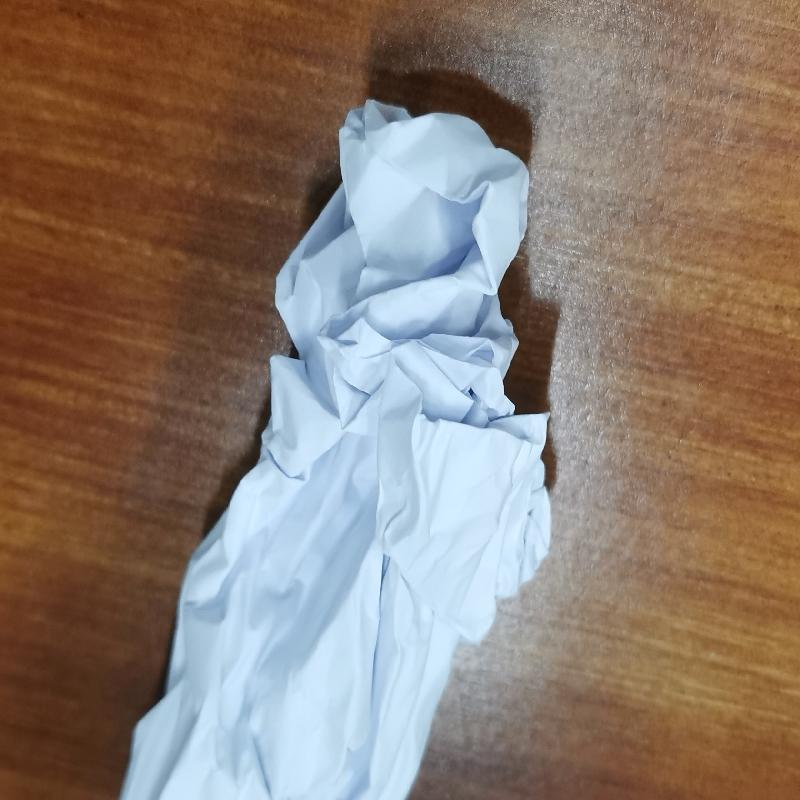spitball: (105, 102, 563, 799)
